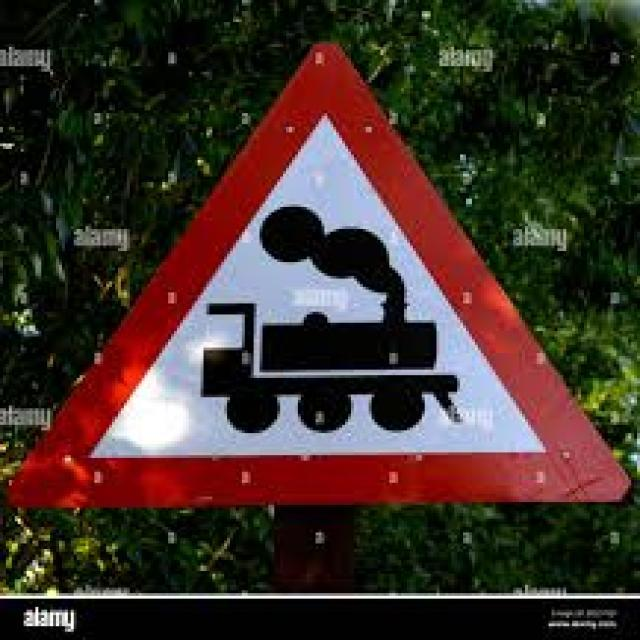unguarded level crossing: (27, 46, 614, 506)
